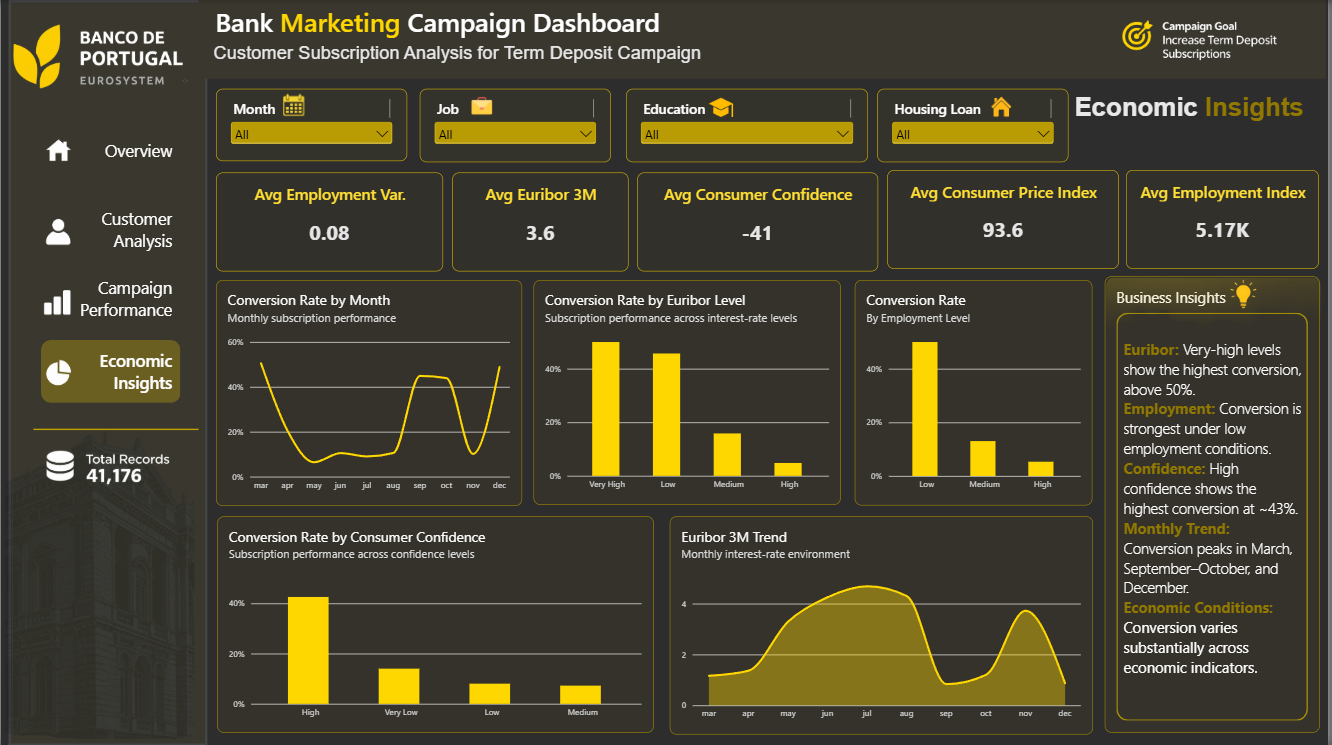

This screenshot's page, from the dashboard's own definition file:
{"tool":"powerbi","page":{"name":"Economic Insights","canvas":[1920,1080],"ordinal":3},"visuals":[{"type":"card","title":"Avg Employment Var.","fields":{"Values":["Cleaned_Bank_Data.Average Employment Rate"]},"box":[311.6,248.9,328.9,142.8],"z":0},{"type":"card","title":"Avg Euribor 3M","fields":{"Values":["Cleaned_Bank_Data.Average Euribor 3M"]},"box":[653.6,248.9,255.4,142.8],"z":1},{"type":"card","title":"Avg Consumer Confidence","fields":{"Values":["Cleaned_Bank_Data.Average Consumer Confidence"]},"box":[921.9,248.9,348.4,142.8],"z":2},{"type":"card","title":"Avg Employment Index","fields":{"Values":["Cleaned_Bank_Data.Average Number Employed"]},"box":[1629.6,246.7,279.2,142.8],"z":3},{"type":"card","title":"Avg Consumer Price Index","fields":{"Values":["Cleaned_Bank_Data.Average Consumer Price Index"]},"box":[1283.3,246.7,335.4,142.8],"z":4},{"type":"clusteredColumnChart","title":"Conversion Rate by Consumer Confidence","fields":{"Category":["Cleaned_Bank_Data.Confidence Group"],"Y":["Cleaned_Bank_Data.Conversion Rate"]},"box":[313.8,746.6,631.9,313.8],"z":5},{"type":"clusteredColumnChart","title":"Conversion Rate by Euribor Level","fields":{"Category":["Cleaned_Bank_Data.Euribor Group"],"Y":["Cleaned_Bank_Data.Conversion Rate"]},"box":[770.9,405.4,445.2,325.7],"z":6},{"type":"lineChart","title":"Conversion Rate by Month","fields":{"Category":["Cleaned_Bank_Data.month"],"Y":["Cleaned_Bank_Data.Conversion Rate"]},"box":[311.3,405.4,443,327],"z":7},{"type":"areaChart","title":"Euribor 3M Trend","fields":{"Category":["Cleaned_Bank_Data.month"],"Y":["Avg(Cleaned_Bank_Data.euribor3m)"]},"box":[967.4,746.6,612.5,316],"z":8},{"type":"clusteredColumnChart","title":"Conversion Rate","fields":{"Category":["Cleaned_Bank_Data.Employment Group"],"Y":["Cleaned_Bank_Data.Conversion Rate"]},"box":[1235.7,404.7,344,326],"z":9},{"type":"shape","box":[10.9,0,287.7,1080.4],"z":10},{"type":"image","box":[0,0,287.7,162.9],"z":11},{"type":"shape","box":[285.9,0,1632.3,114],"z":12},{"type":"textbox","box":[298.6,0,787.2,114],"z":13},{"type":"image","box":[0,584.3,285.7,495.6],"z":14},{"type":"image","box":[1567.2,0,336.6,114],"z":15},{"type":"pageNavigator","box":[57.9,195.4,202.7,389.1],"z":16},{"type":"image","box":[59.7,298.6,47.1,72.4],"z":17},{"type":"image","box":[59.7,181,47.1,72.4],"z":18},{"type":"image","box":[57.9,399.9,47.1,72.4],"z":19},{"type":"image","box":[59.7,503.1,47.1,72.4],"z":20},{"type":"shape","box":[47.1,555.6,238.9,132.1],"z":21},{"type":"slicer","fields":{"Values":["Cleaned_Bank_Data.month"]},"box":[311.3,128.5,276.9,105],"z":22},{"type":"slicer","fields":{"Values":["Cleaned_Bank_Data.job"]},"box":[606,127.7,277,106],"z":23},{"type":"slicer","fields":{"Values":["Cleaned_Bank_Data.education"]},"box":[904.6,127.7,350.6,106],"z":24},{"type":"shape","title":"Business Insights","box":[1597.9,399.9,311.3,660.5],"z":26},{"type":"textbox","box":[1625.3,491.3,259.7,506.4],"z":27},{"type":"image","box":[1599.3,400.4,311.6,179.6],"z":28},{"type":"image","box":[47.1,622.5,213.5,108.6],"z":30},{"type":"image","box":[1735.5,392.7,126.7,68.8],"z":31},{"type":"textbox","box":[1543,134.2,367.9,99.6],"z":35},{"type":"slicer","fields":{"Values":["Cleaned_Bank_Data.housing"]},"box":[1268.2,127.7,277,106],"z":36},{"type":"image","box":[400.4,136.3,47.6,34.6],"z":37},{"type":"image","box":[1424,138.5,47.6,30.3],"z":38},{"type":"image","box":[1021.5,138.5,43.3,34.6],"z":41},{"type":"image","box":[670.9,132,49.8,39],"z":42}]}

Visuals, with their boxes on the page's 1920x1080 design canvas (x1, y1, x2, y2). These are canvas units, not pixel positions in the 1332x745 screenshot, which may show the page scaled, cropped or inside an application window:
"Avg Employment Var." card: [312, 249, 640, 392]
"Avg Euribor 3M" card: [654, 249, 909, 392]
"Avg Consumer Confidence" card: [922, 249, 1270, 392]
"Avg Employment Index" card: [1630, 247, 1909, 390]
"Avg Consumer Price Index" card: [1283, 247, 1619, 390]
"Conversion Rate by Consumer Confidence" clusteredColumnChart: [314, 747, 946, 1060]
"Conversion Rate by Euribor Level" clusteredColumnChart: [771, 405, 1216, 731]
"Conversion Rate by Month" lineChart: [311, 405, 754, 732]
"Euribor 3M Trend" areaChart: [967, 747, 1580, 1063]
"Conversion Rate" clusteredColumnChart: [1236, 405, 1580, 731]
shape: [11, 0, 299, 1080]
image: [0, 0, 288, 163]
shape: [286, 0, 1918, 114]
textbox: [299, 0, 1086, 114]
image: [0, 584, 286, 1080]
image: [1567, 0, 1904, 114]
pageNavigator: [58, 195, 261, 584]
image: [60, 299, 107, 371]
image: [60, 181, 107, 253]
image: [58, 400, 105, 472]
image: [60, 503, 107, 576]
shape: [47, 556, 286, 688]
slicer - Cleaned_Bank_Data.month: [311, 128, 588, 234]
slicer - Cleaned_Bank_Data.job: [606, 128, 883, 234]
slicer - Cleaned_Bank_Data.education: [905, 128, 1255, 234]
"Business Insights" shape: [1598, 400, 1909, 1060]
textbox: [1625, 491, 1885, 998]
image: [1599, 400, 1911, 580]
image: [47, 622, 261, 731]
image: [1736, 393, 1862, 462]
textbox: [1543, 134, 1911, 234]
slicer - Cleaned_Bank_Data.housing: [1268, 128, 1545, 234]
image: [400, 136, 448, 171]
image: [1424, 138, 1472, 169]
image: [1022, 138, 1065, 173]
image: [671, 132, 721, 171]
